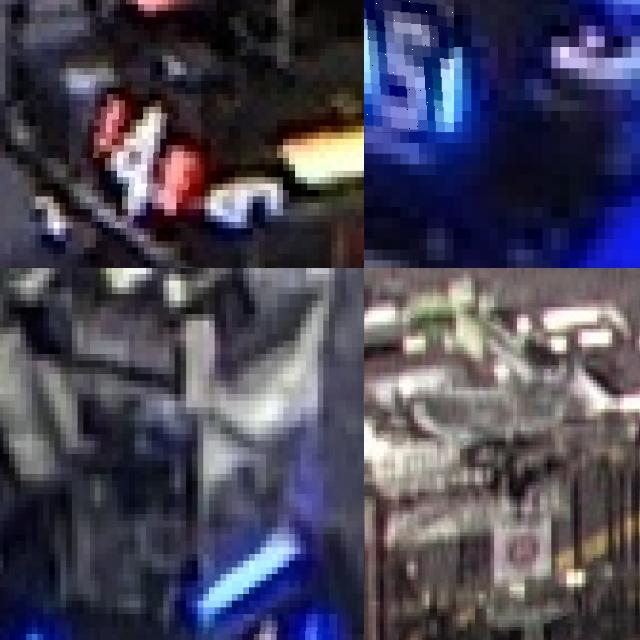B1: (194, 614, 337, 640)
B5: (364, 0, 453, 132)
R4: (69, 68, 201, 228)
